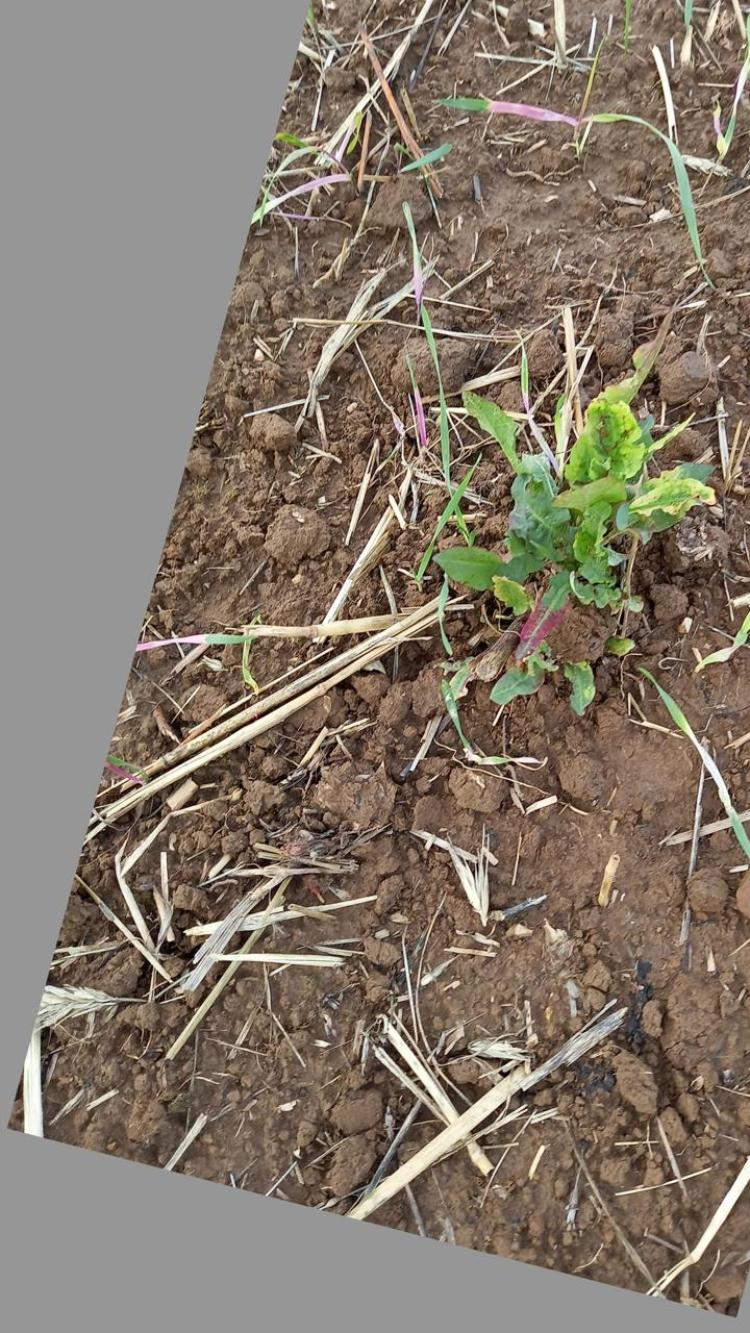zhavel: (429, 371, 719, 704)
